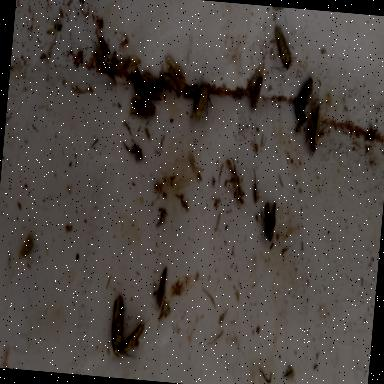pbw: (270, 27, 295, 74), (109, 296, 126, 356), (162, 57, 188, 93), (190, 86, 214, 124), (294, 78, 314, 120), (120, 323, 144, 357), (305, 104, 321, 154), (130, 96, 156, 120), (250, 75, 264, 113), (156, 267, 168, 310), (161, 74, 183, 97), (130, 139, 144, 161), (98, 38, 112, 56), (296, 113, 308, 132), (183, 86, 197, 100)
